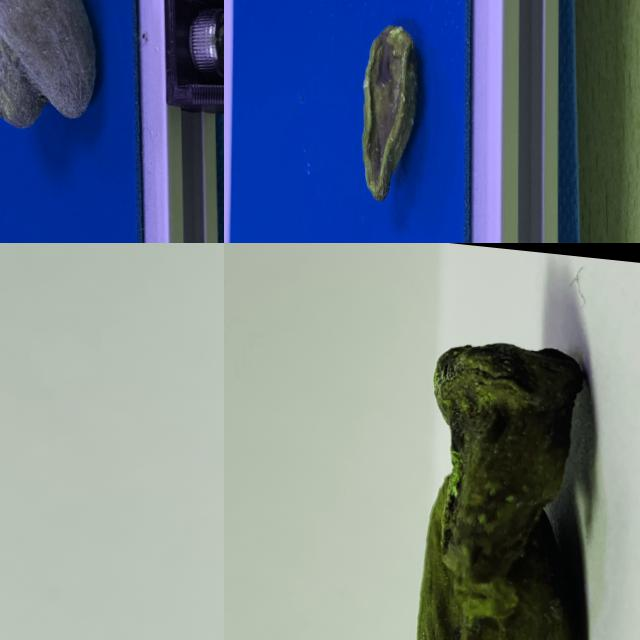Agglomerated_cocoabeans: (376, 256, 620, 639), (0, 0, 128, 242)
Flat_cocoabeans: (323, 0, 452, 242)
